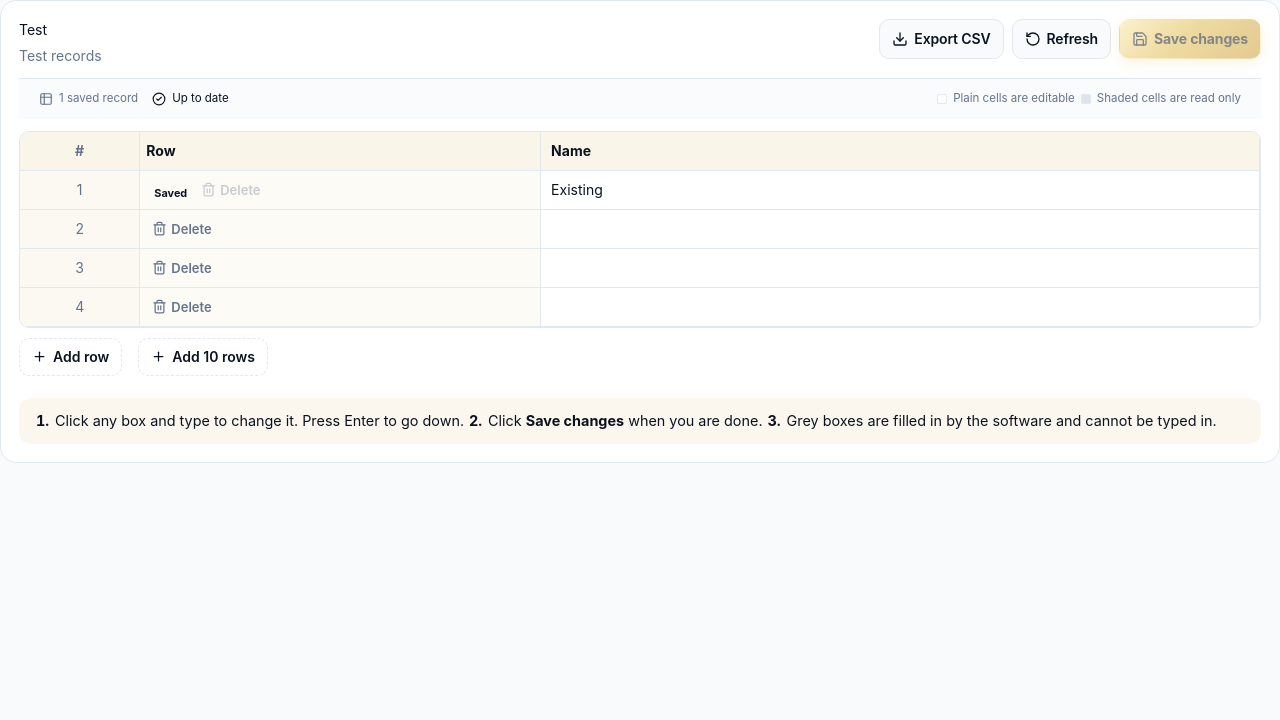
Scenario: updates and adds records in Strict Mode, retains saved rows, and never resubmits unchanged rows
The image size is (1280, 720).
Replace the text in the field named "Name row 1" with "Edited". click: (900, 190)
box: [541,171,1259,209]
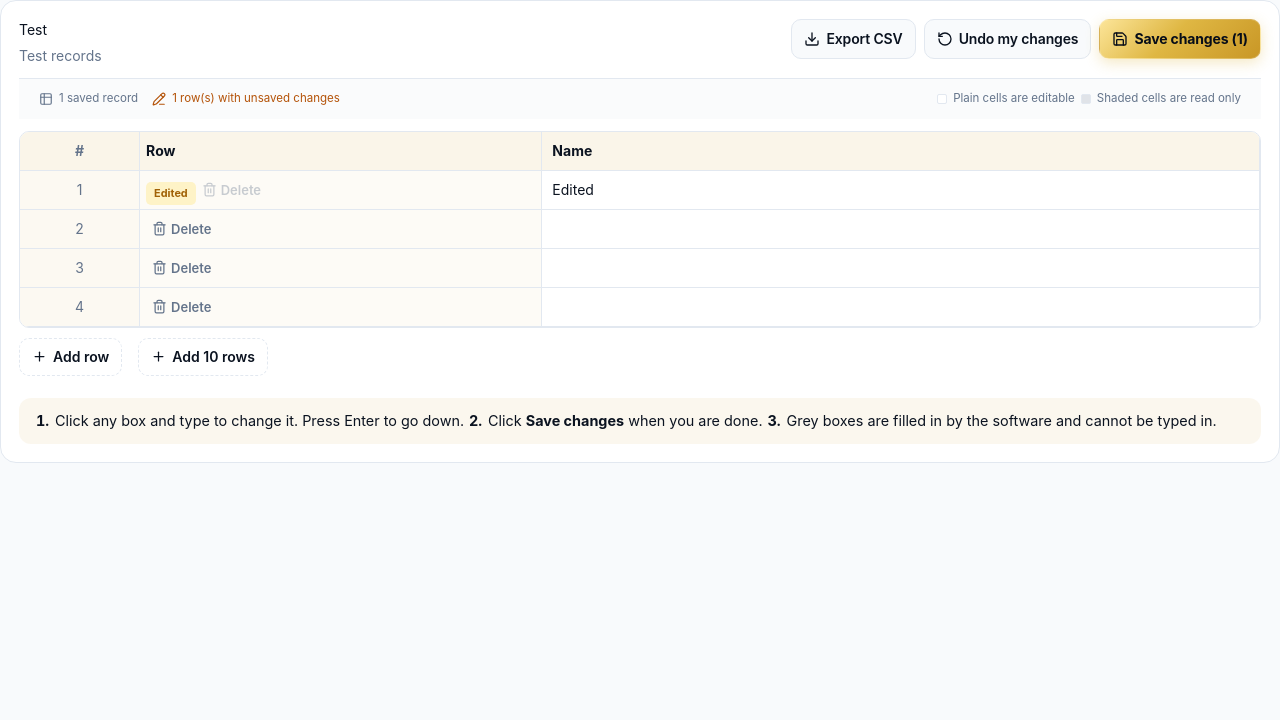
Type "New" into the field named "Name row 2". click: (901, 229)
box: [542,210,1259,248]
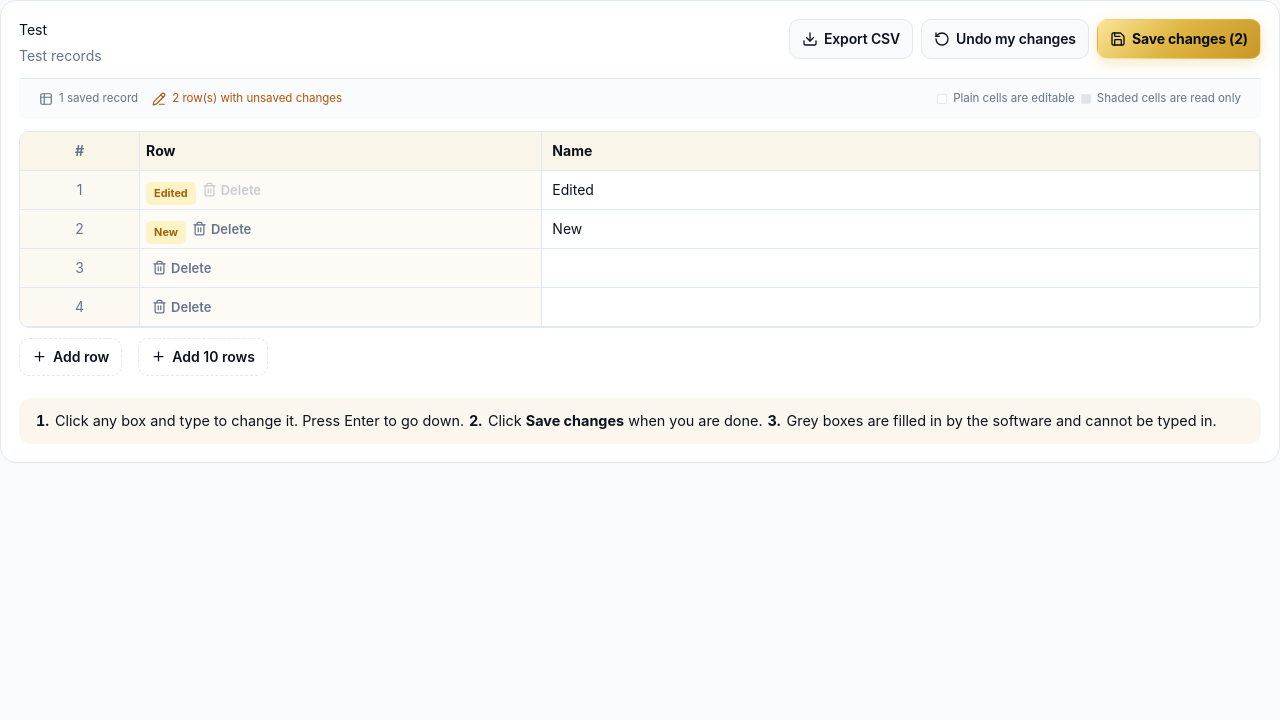
Click the button "Save changes (2)". click: (1179, 39)
box: [1097,19,1261,59]
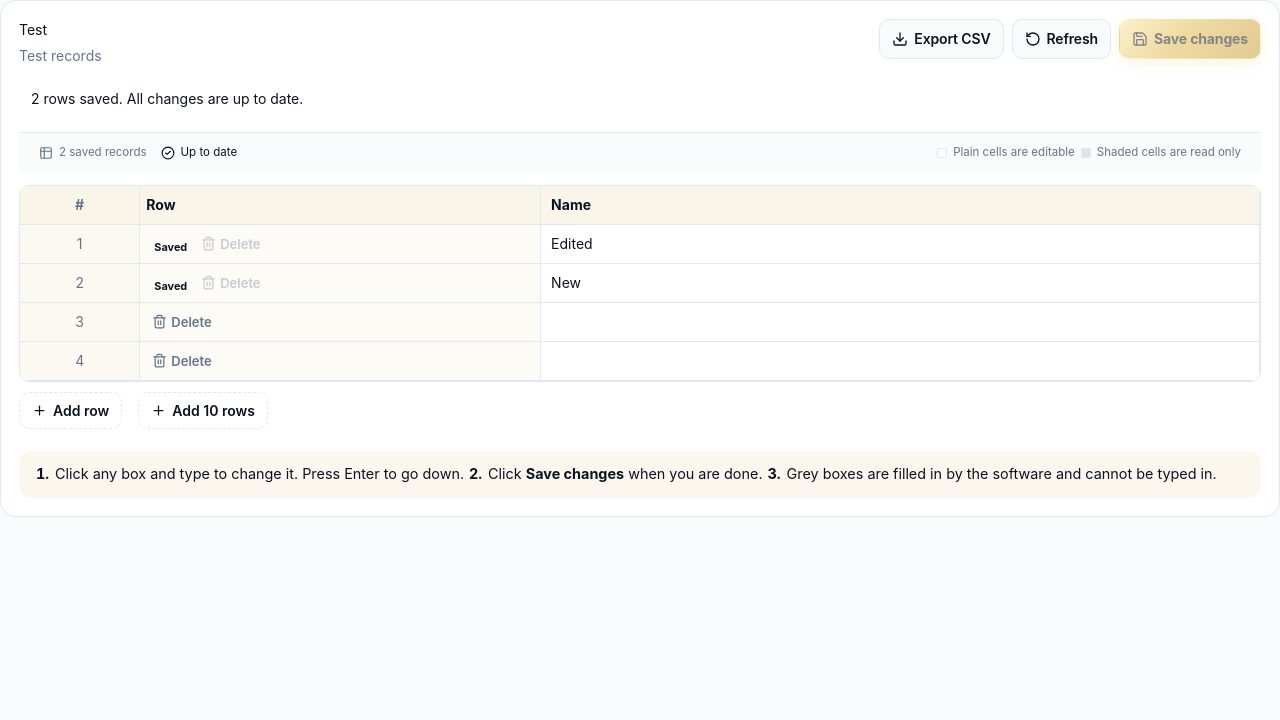
Check: the text "2 rows saved. All changes are up to date." is shown, box [31,90,303,107]
Check: the button "Save changes" is disabled, box [1119,19,1261,59]
